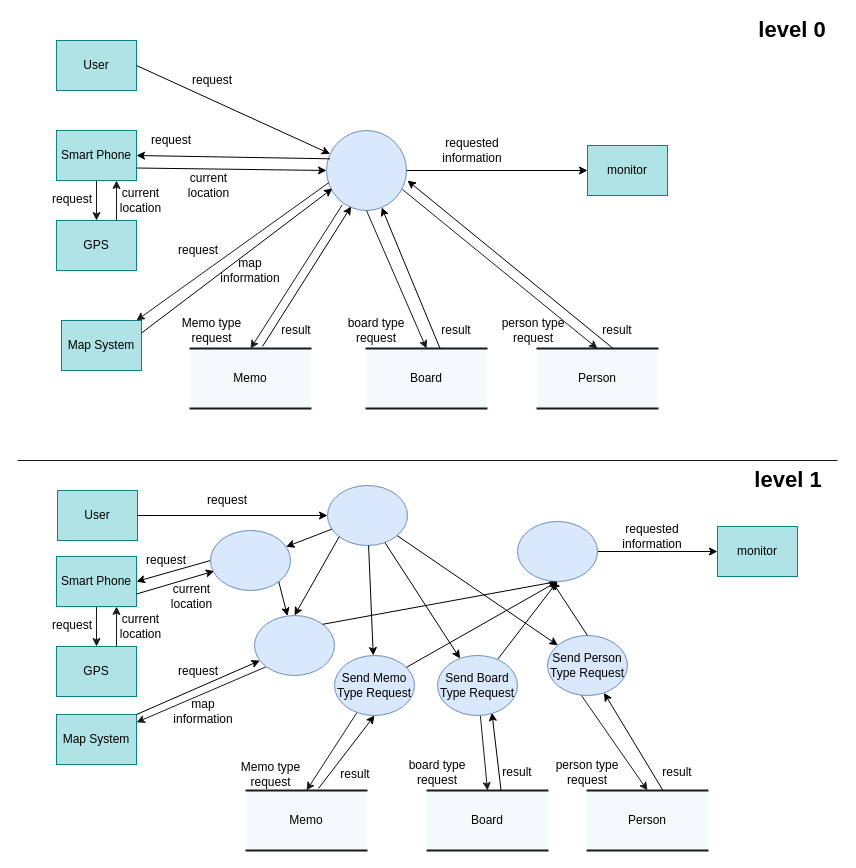
This 856x868 diagram has some shape labels left out. Each missing label, with the box of its shape:
Classify request types: (326, 484, 408, 546)
Send Get Direction Type Request: (210, 530, 290, 590)
Send Map Type Request: (254, 614, 334, 676)
Send Result: (516, 520, 598, 582)
Soongsil Campus Map: (326, 130, 406, 210)
